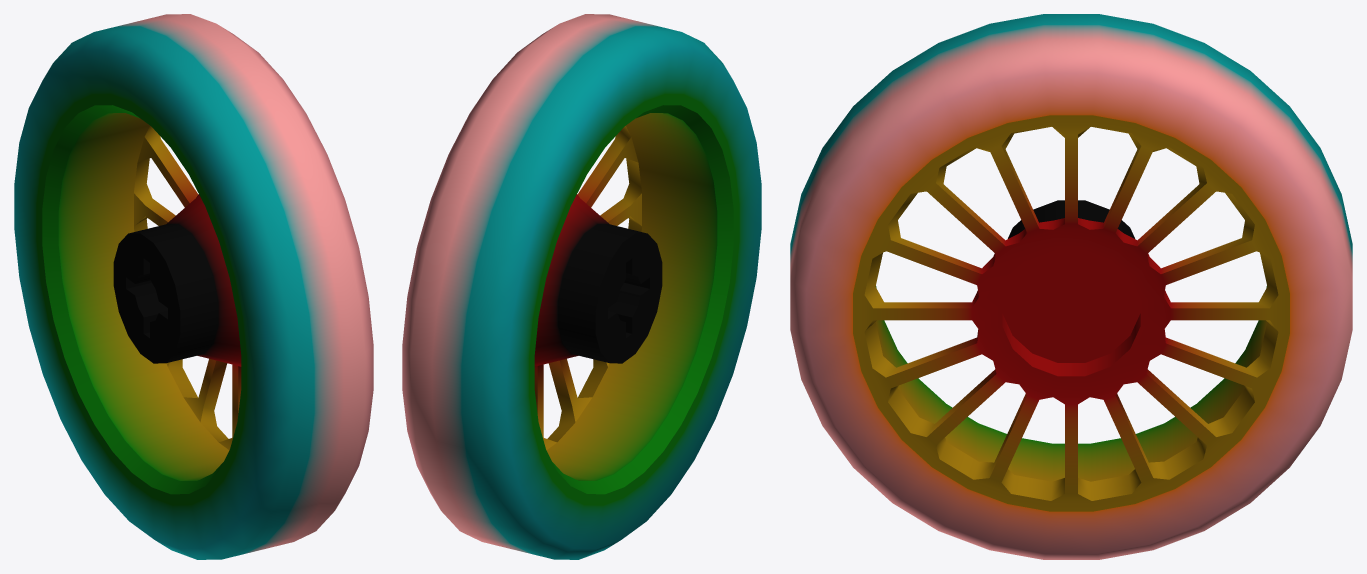
File: SM_RacingWheel_3x2s.gltf
The picture shows the model from 3 angles, left to right: view 1: azimuth 30°, elevation 25°; view 2: azimuth 150°, elevation 25°; view 3: azimuth 270°, elevation 25°; orthographic projection. The views are drawn at different scales.
Visible parts, largest first — view 1: SM_RacingWheel_3x2s; view 2: SM_RacingWheel_3x2s; view 3: SM_RacingWheel_3x2s.
Part boxes in pixels (bbox=[...]): SM_RacingWheel_3x2s: bbox=[14, 14, 373, 559]; SM_RacingWheel_3x2s: bbox=[402, 14, 761, 559]; SM_RacingWheel_3x2s: bbox=[790, 14, 1352, 559].
Bounding box in the file's own units: 0.203 × 0.8957 × 0.8957.
